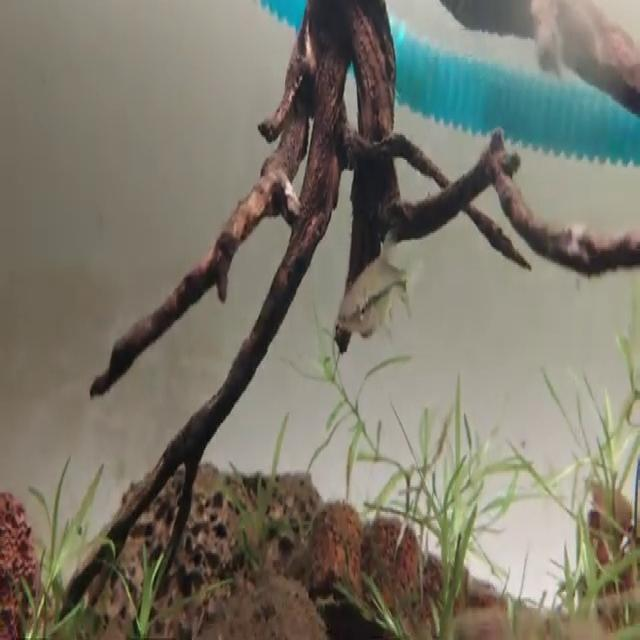Cakil Baligi: (336, 220, 426, 345)
